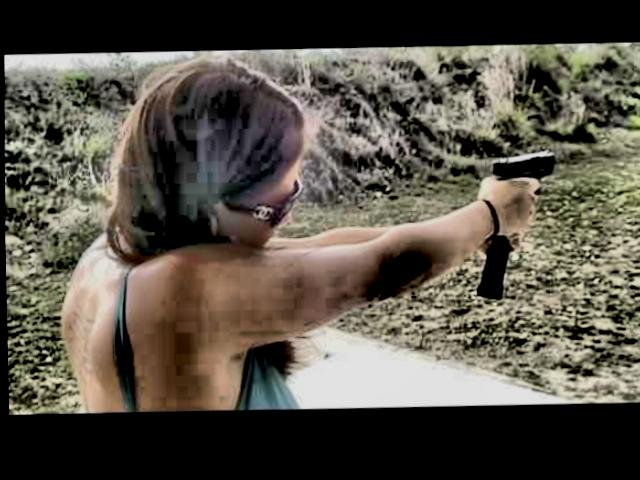pistol: (485, 152, 559, 251)
